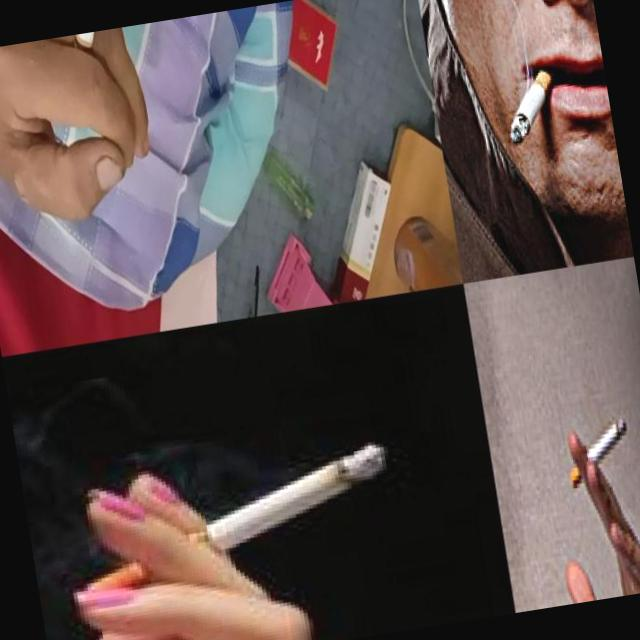cigarette: (68, 439, 405, 606), (560, 406, 638, 489), (499, 60, 566, 146), (68, 29, 118, 74)
